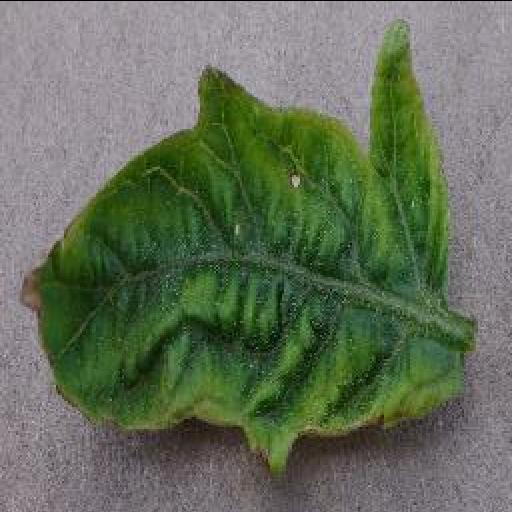disease_tomato: (22, 20, 468, 473)
